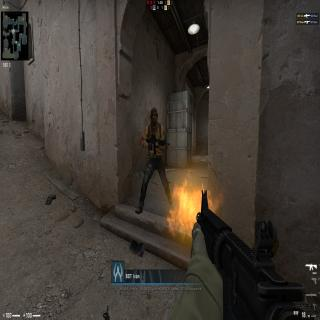T-Head: (150, 107, 158, 127)
